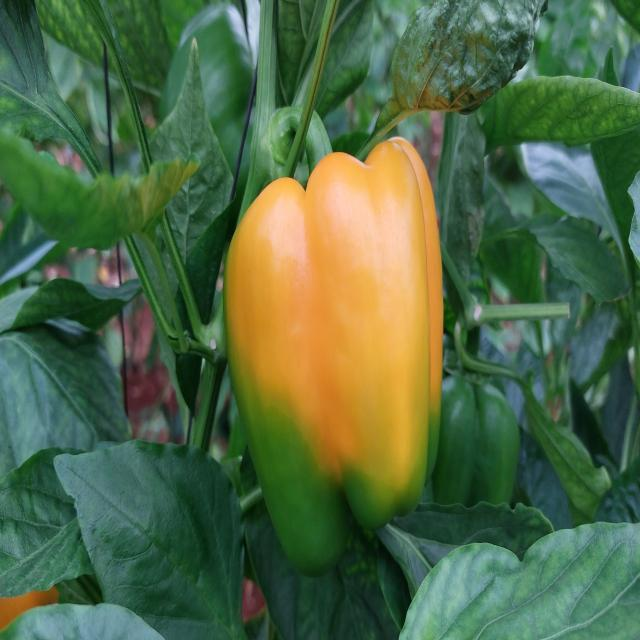Yellow-Ready-to-Harvest: (221, 133, 445, 573)
